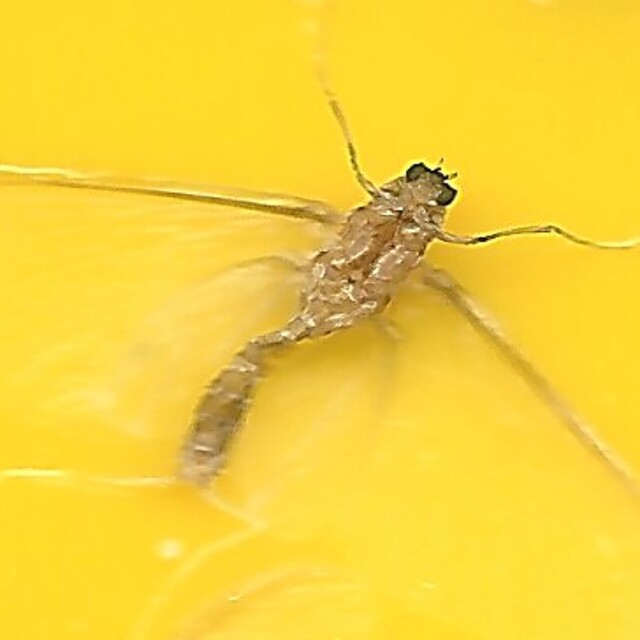Ephemeroptera: (176, 159, 464, 481)
